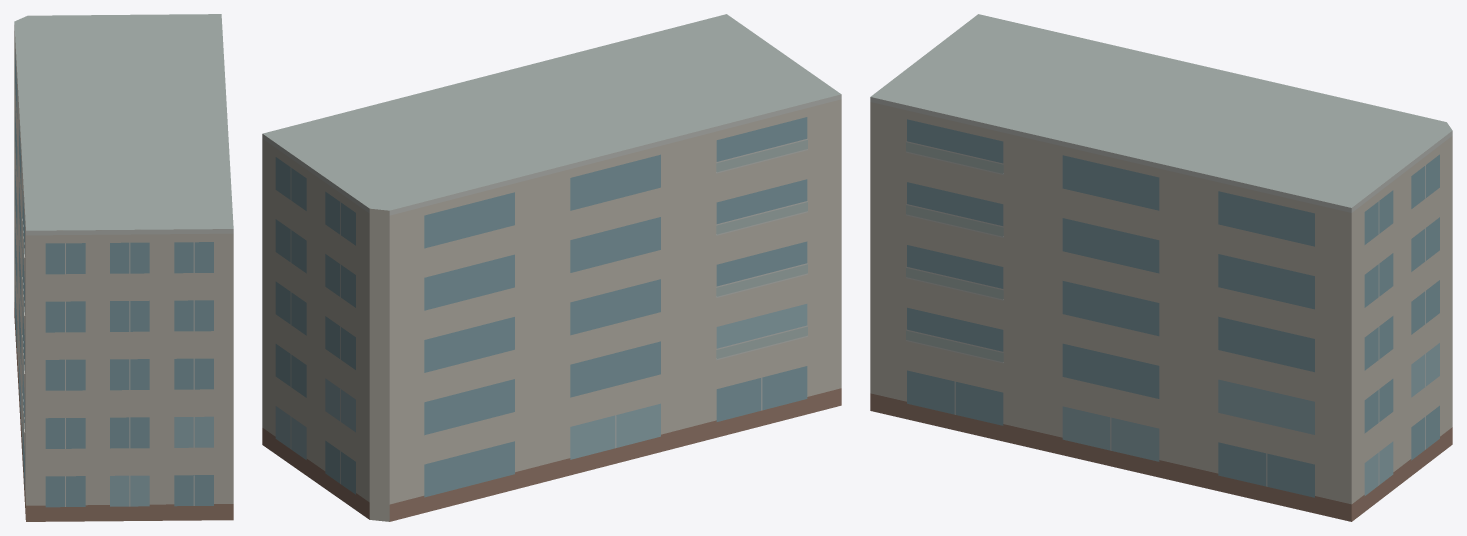
The model's file is survey-upis-32920497.glb.
3 views of the same model, side by side, from view 1: azimuth 30°, elevation 25°; view 2: azimuth 150°, elevation 25°; view 3: azimuth 270°, elevation 25° (orthographic). The views are drawn at different scales.
Visible parts, largest first — view 1: survey-upis-32920497.tmp; view 2: survey-upis-32920497.tmp; view 3: survey-upis-32920497.tmp.
Part boxes in pixels (left/top/right/bottom): survey-upis-32920497.tmp: left=14, top=14, right=233, bottom=521; survey-upis-32920497.tmp: left=262, top=14, right=841, bottom=521; survey-upis-32920497.tmp: left=870, top=14, right=1452, bottom=521.
Size of the model in its own units: 20.22 by 15.25 by 25.65.
